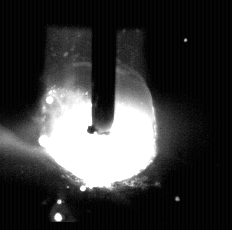arame: (89, 0, 117, 134)
poca: (37, 0, 158, 230)
